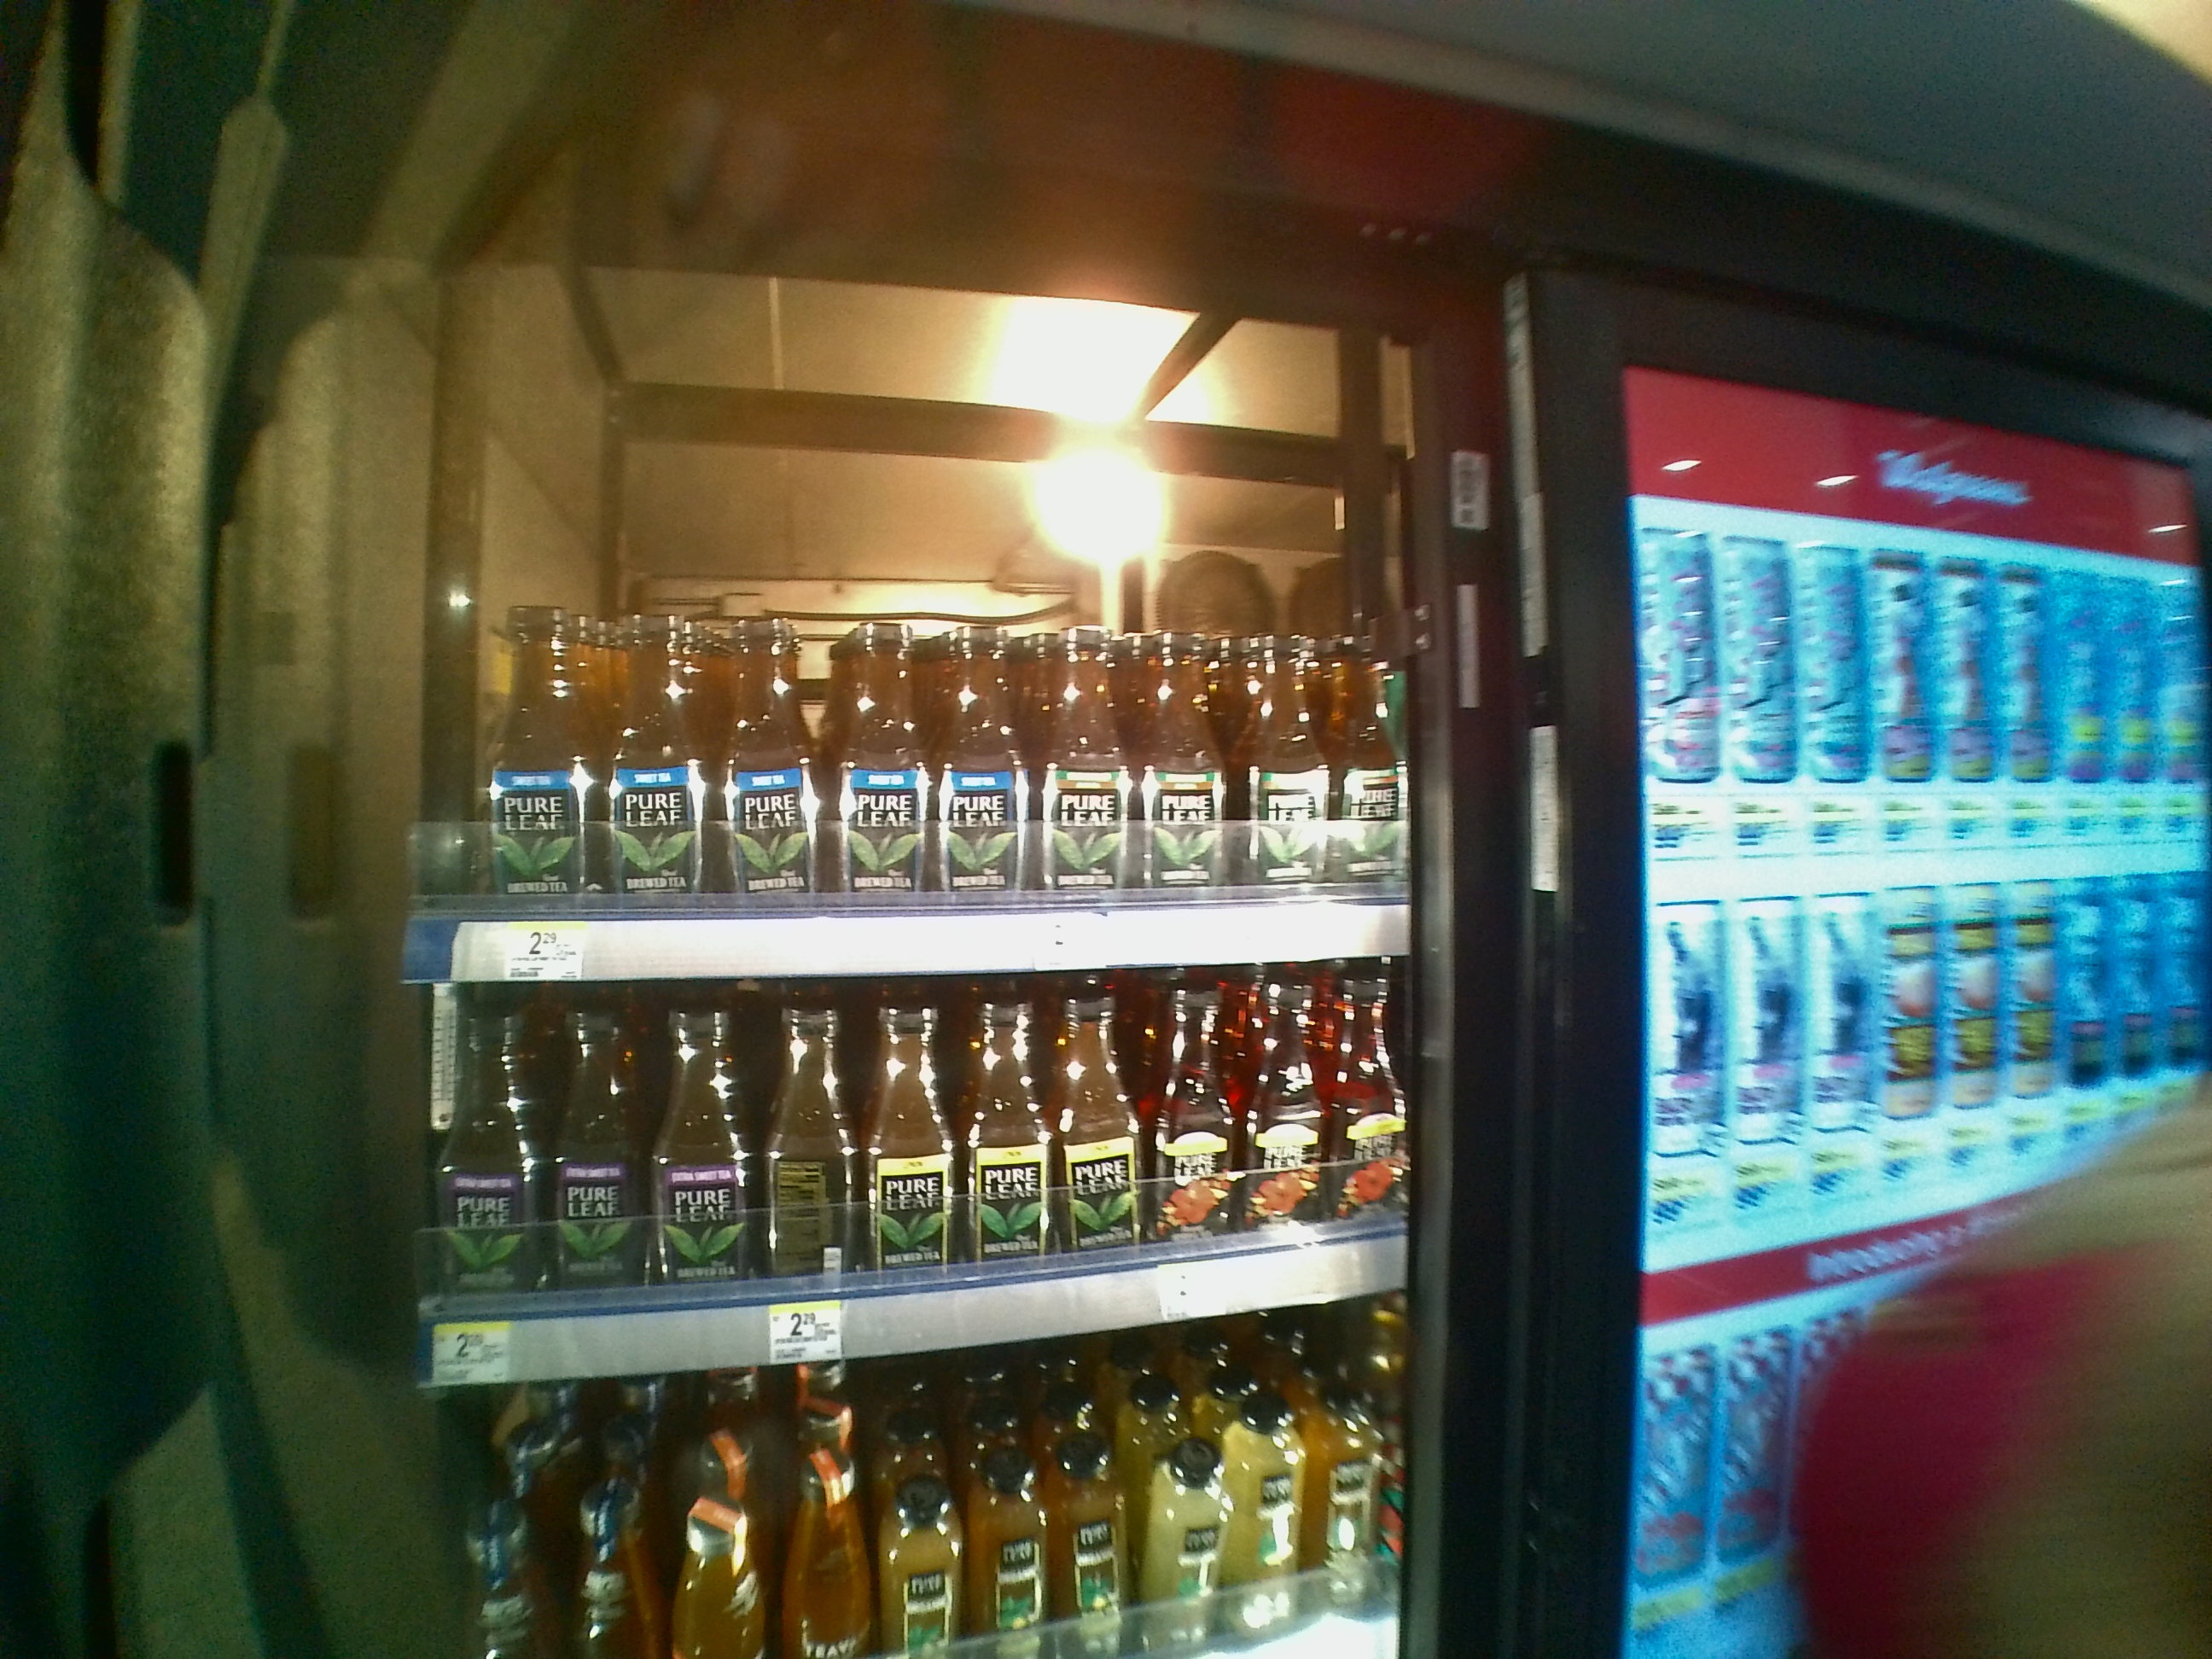shelf: (395, 427, 1416, 988), (416, 995, 1428, 1391)
